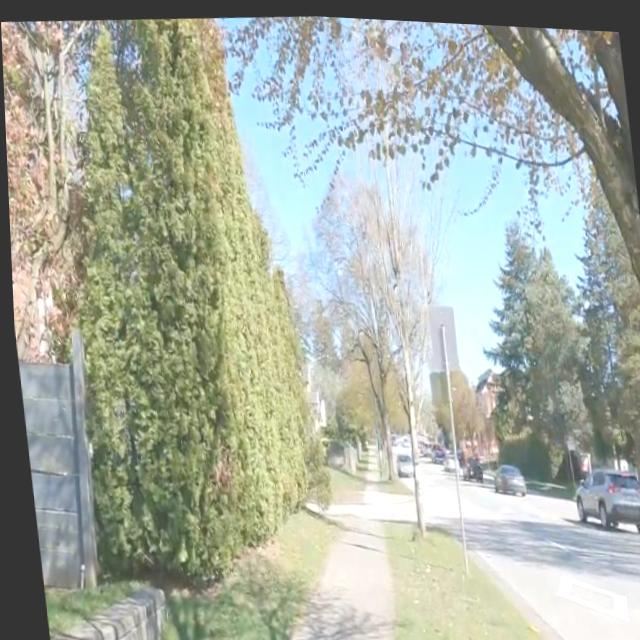Automobile: (570, 462, 640, 526), (489, 460, 521, 487), (392, 443, 407, 471), (463, 453, 477, 477), (439, 451, 449, 466)
Road: (456, 476, 640, 640), (457, 478, 640, 640), (421, 472, 453, 523)
Sidewalk: (285, 502, 389, 640)
